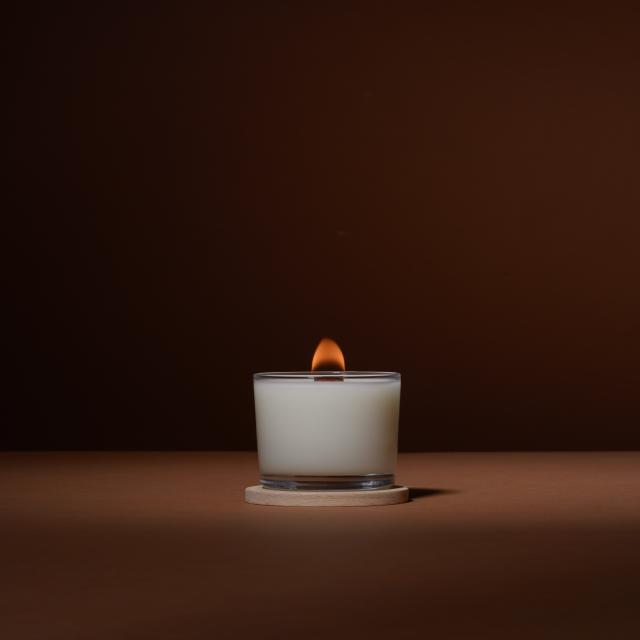fire: (297, 334, 362, 377)
